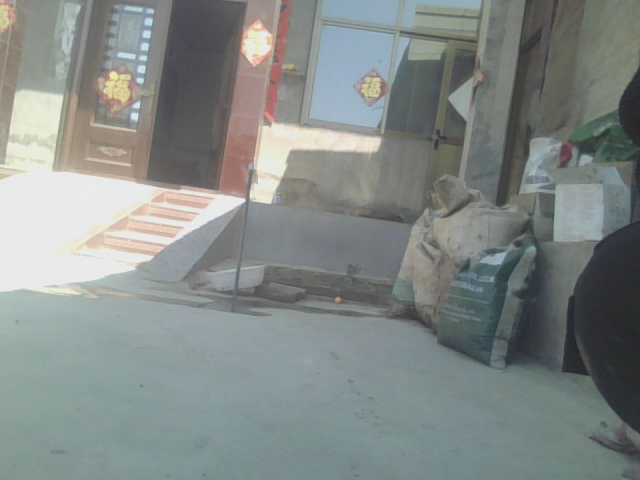ball: (335, 296, 343, 303)
